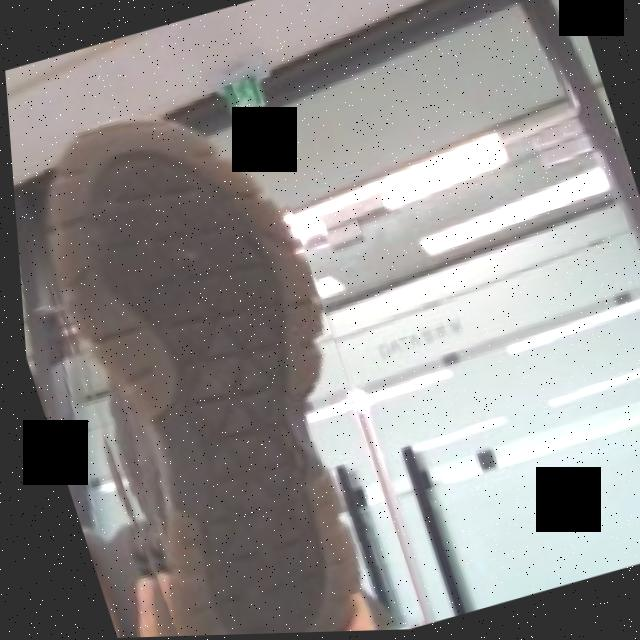shoe: (5, 77, 416, 640)
